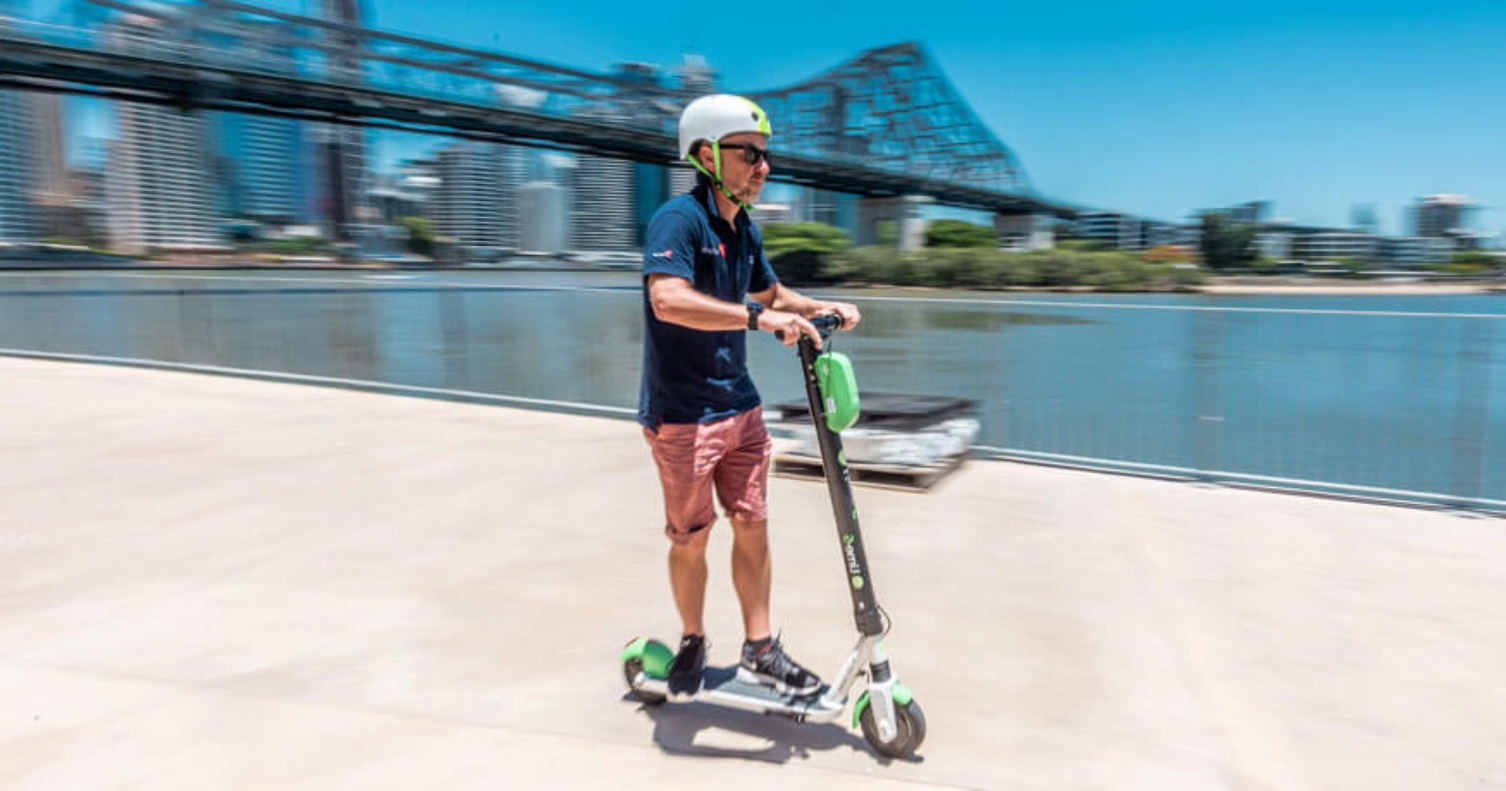helmet: (670, 90, 779, 213)
human: (646, 94, 849, 680)
kickboard: (611, 637, 931, 749)
